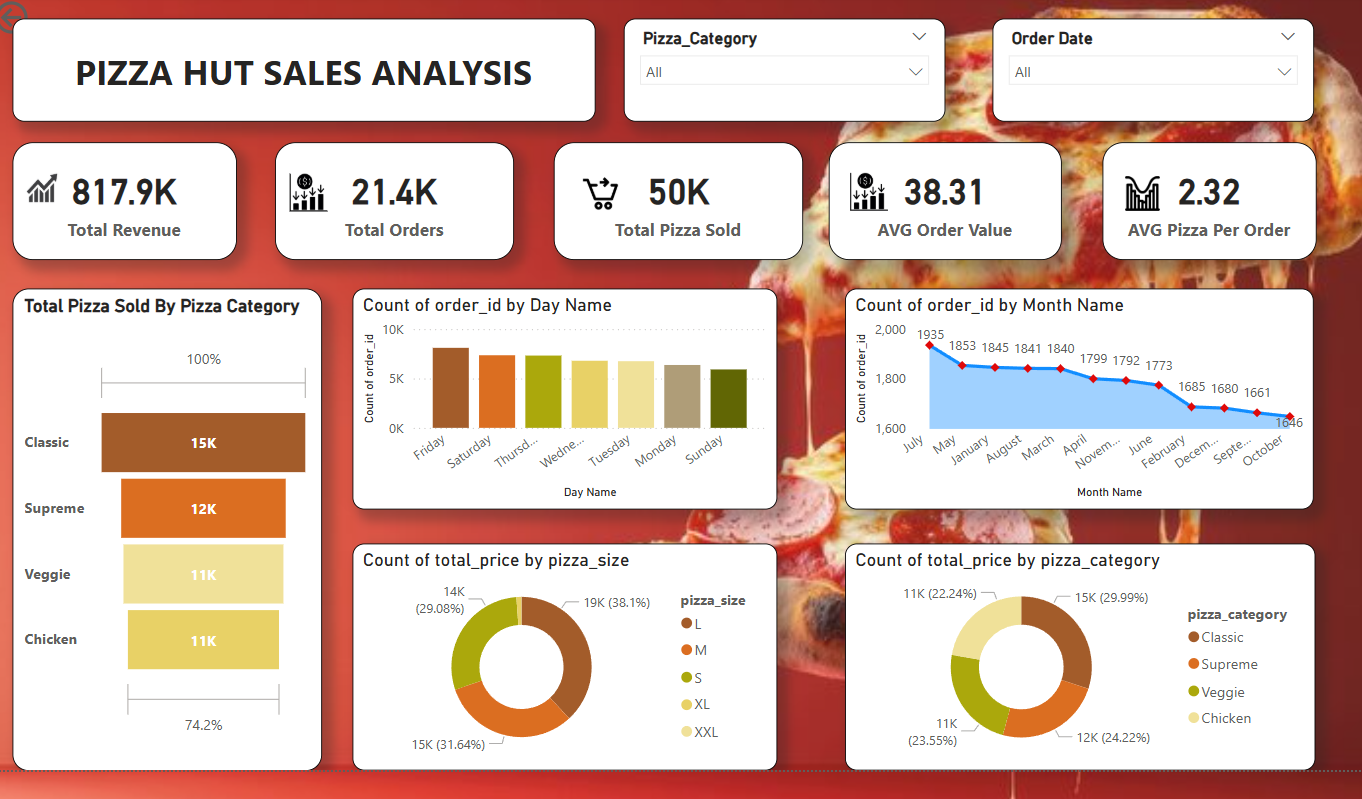

What the dashboard file says about the page in this screenshot:
{"tool":"powerbi","page":{"name":"Dashboard","canvas":[1280,720],"ordinal":0},"visuals":[{"type":"card","fields":{"Values":["Sum(pizza_sales.total_price)"]},"box":[20.6,135.8,208.6,109.8],"z":0},{"type":"card","fields":{"Values":["Count(pizza_sales.order_id)"]},"box":[264.8,135.8,222.3,109.8],"z":1000},{"type":"card","fields":{"Values":["pizza_sales.AVG Pizza Per"]},"box":[1034.7,135.8,199,109.8],"z":2000},{"type":"actionButton","box":[0,0,100,40],"z":3000},{"type":"card","fields":{"Values":["Sum(pizza_sales.quantity)"]},"box":[524.2,135.8,231.9,109.8],"z":4000},{"type":"funnel","title":"Total Pizza Sold By Pizza Category","fields":{"Category":["pizza_sales.pizza_category"],"Y":["CountNonNull(pizza_sales.total_price)"]},"box":[20.6,271.7,288.2,448.7],"z":5000},{"type":"donutChart","fields":{"Y":["CountNonNull(pizza_sales.total_price)"],"Category":["pizza_sales.pizza_category"]},"box":[795.9,509.1,437.7,211.3],"z":6000},{"type":"areaChart","fields":{"Category":["pizza_sales.Month Name"],"Y":["Count(pizza_sales.order_id)"]},"box":[795.9,271.7,436.4,205.8],"z":7000},{"type":"donutChart","fields":{"Category":["pizza_sales.pizza_size"],"Y":["CountNonNull(pizza_sales.total_price)"]},"box":[337.6,509.1,395.2,211.3],"z":8000},{"type":"columnChart","fields":{"Category":["pizza_sales.Day Name"],"Y":["CountNonNull(pizza_sales.order_id)"]},"box":[337.6,271.7,395.2,205.8],"z":9000},{"type":"card","fields":{"Values":["pizza_sales.aov"]},"box":[780.8,135.8,216.8,109.8],"z":10000},{"type":"textbox","box":[20.6,20.6,542,96.1],"z":11000},{"type":"slicer","fields":{"Values":["pizza_sales.pizza_category"]},"box":[590.1,20.6,299.1,96.1],"z":12000},{"type":"slicer","fields":{"Values":["pizza_sales.order_date"]},"box":[933.1,20.6,299.1,96.1],"z":13000},{"type":"image","box":[23.3,150.9,50.8,54.9],"z":14000},{"type":"image","box":[264.8,160.5,61.7,45.3],"z":15000},{"type":"image","box":[535.2,153.7,64.5,60.4],"z":16000},{"type":"image","box":[795.9,157.8,45.3,48],"z":17000},{"type":"image","box":[1048.4,157.8,46.7,50.8],"z":18000}]}

Visuals, with their boxes in screenshot pixels (x1, y1, x2, y2):
card - Sum(pizza_sales.total_price): [x1=0, y1=137, x2=225, y2=257]
card - Count(pizza_sales.order_id): [x1=263, y1=137, x2=505, y2=257]
card - pizza_sales.AVG Pizza Per: [x1=1101, y1=137, x2=1317, y2=257]
actionButton: [x1=0, y1=0, x2=84, y2=33]
card - Sum(pizza_sales.quantity): [x1=545, y1=137, x2=798, y2=257]
"Total Pizza Sold By Pizza Category" funnel: [x1=0, y1=285, x2=311, y2=773]
donutChart - CountNonNull(pizza_sales.total_price) x pizza_sales.pizza_category: [x1=841, y1=543, x2=1317, y2=773]
areaChart - pizza_sales.Month Name x Count(pizza_sales.order_id): [x1=841, y1=285, x2=1316, y2=509]
donutChart - pizza_sales.pizza_size x CountNonNull(pizza_sales.total_price): [x1=342, y1=543, x2=772, y2=773]
columnChart - pizza_sales.Day Name x CountNonNull(pizza_sales.order_id): [x1=342, y1=285, x2=772, y2=509]
card - pizza_sales.aov: [x1=825, y1=137, x2=1060, y2=257]
textbox: [x1=0, y1=12, x2=587, y2=116]
slicer - pizza_sales.pizza_category: [x1=617, y1=12, x2=943, y2=116]
slicer - pizza_sales.order_date: [x1=990, y1=12, x2=1316, y2=116]
image: [x1=1, y1=154, x2=56, y2=213]
image: [x1=263, y1=164, x2=330, y2=213]
image: [x1=557, y1=157, x2=628, y2=222]
image: [x1=841, y1=161, x2=890, y2=213]
image: [x1=1116, y1=161, x2=1167, y2=216]
